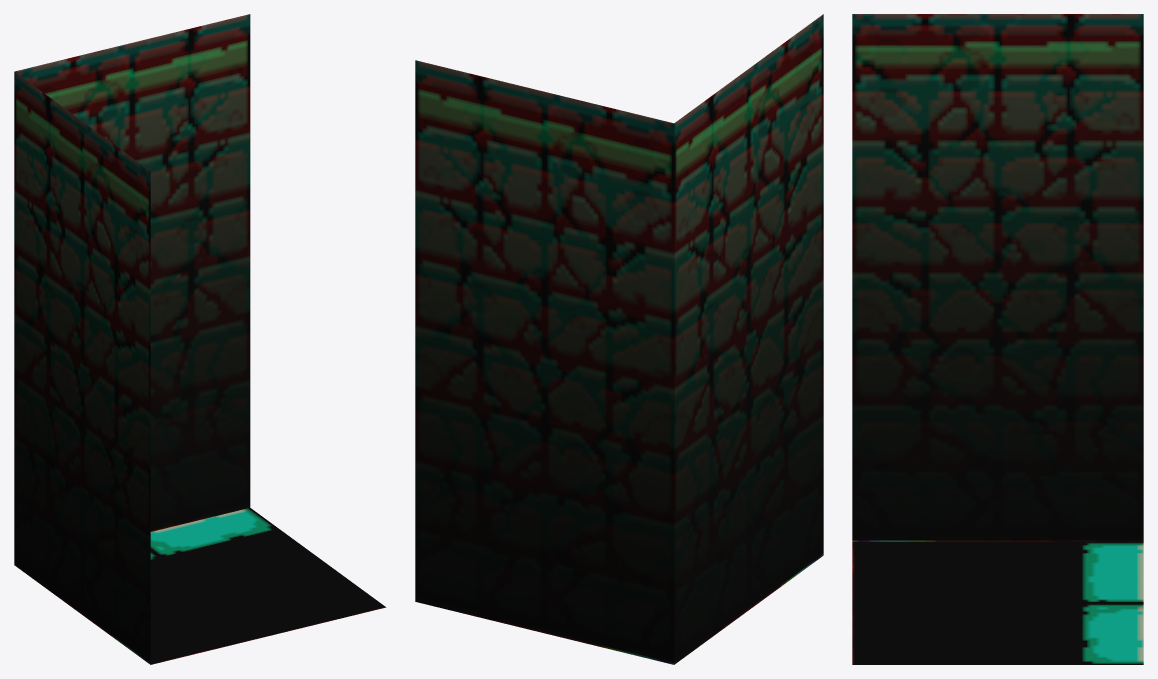
Rendered from arch_cathedral_wallHole_2walls_B.FBX.
3 renders of one model, left to right at view 1: azimuth 30°, elevation 25°; view 2: azimuth 150°, elevation 25°; view 3: azimuth 270°, elevation 25°, orthographic. The views are drawn at different scales.
Visible parts, largest first — view 1: arch_cathedral_wallHole_2walls_B; view 2: arch_cathedral_wallHole_2walls_B; view 3: arch_cathedral_wallHole_2walls_B.
Part boxes in pixels (left/top/right/bottom): arch_cathedral_wallHole_2walls_B: left=14, top=14, right=386, bottom=664; arch_cathedral_wallHole_2walls_B: left=415, top=14, right=823, bottom=664; arch_cathedral_wallHole_2walls_B: left=852, top=14, right=1143, bottom=664.
Bounding box in the file's own units: 2 × 4 × 2.
Materials: 1 (1 with a texture image).
